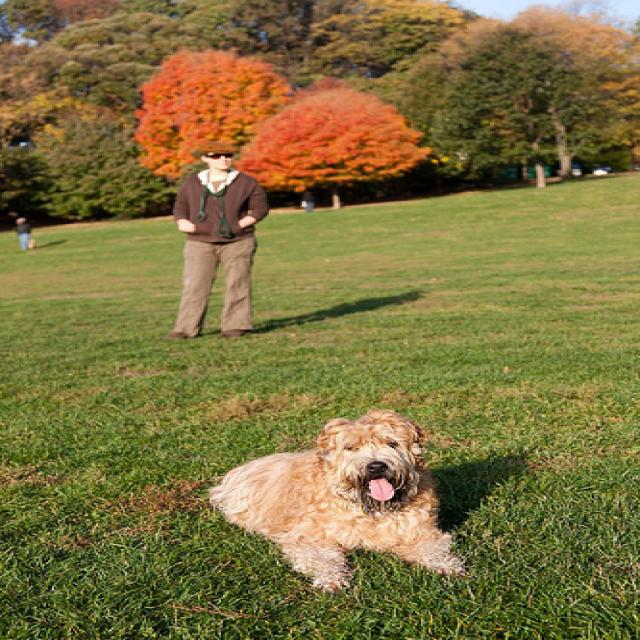dog-wheaten_terrier: (198, 404, 477, 602)
